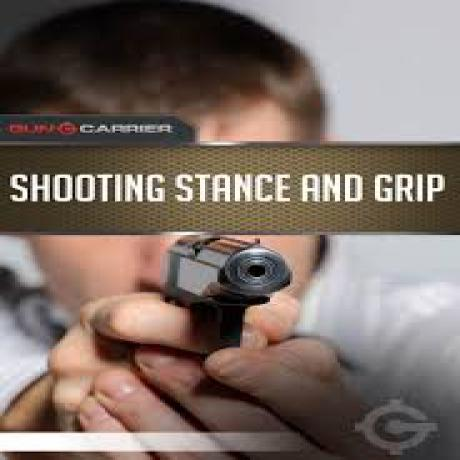Guns: (161, 223, 295, 365)
